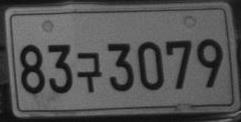0: (137, 40, 164, 91)
3: (107, 42, 134, 92), (48, 44, 73, 94)
7: (165, 39, 192, 89)
8: (19, 43, 45, 94)
9: (196, 37, 223, 88)
구: (77, 51, 102, 93)
